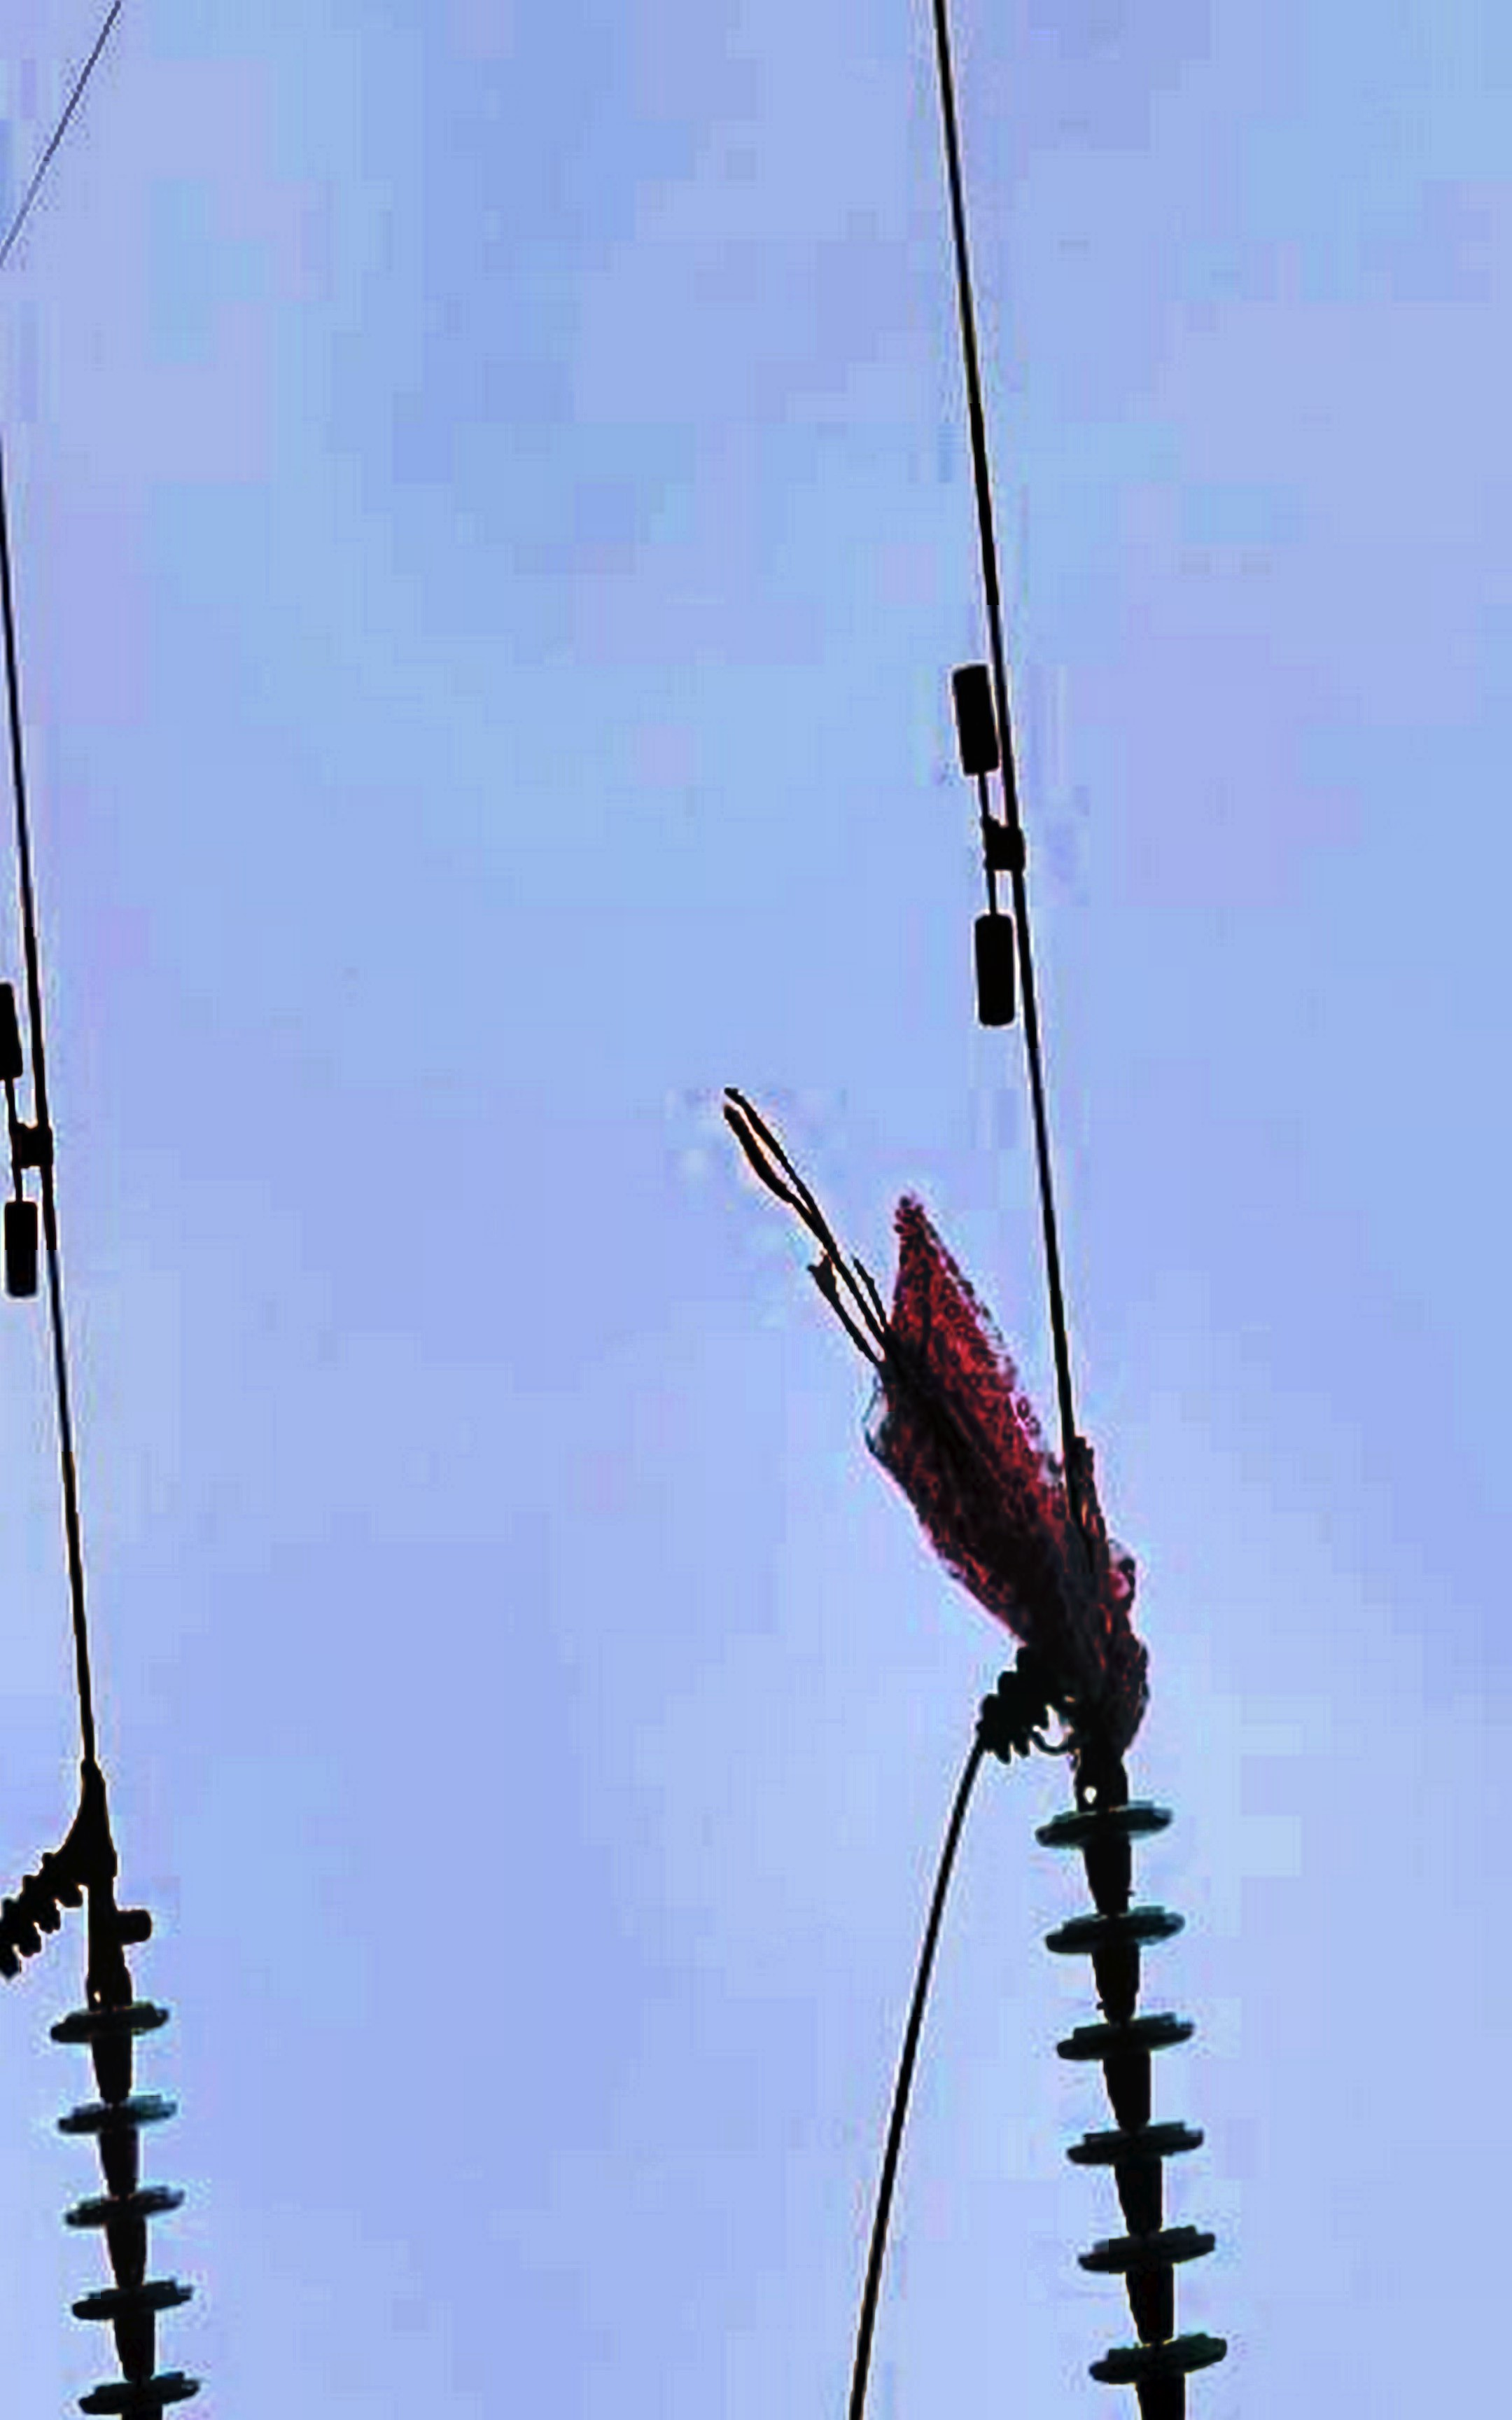wire foreign body: (697, 1089, 1207, 1775)
